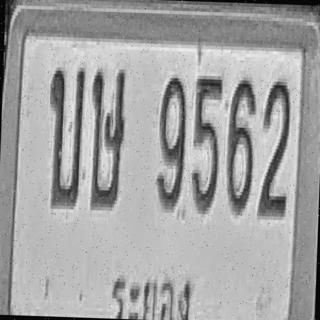A26: (45, 62, 86, 208)
A39: (88, 65, 127, 211)
N02: (257, 78, 291, 217)
N05: (190, 74, 222, 212)
N06: (225, 75, 256, 214)
N09: (156, 74, 188, 210)
P53: (105, 264, 198, 320)
